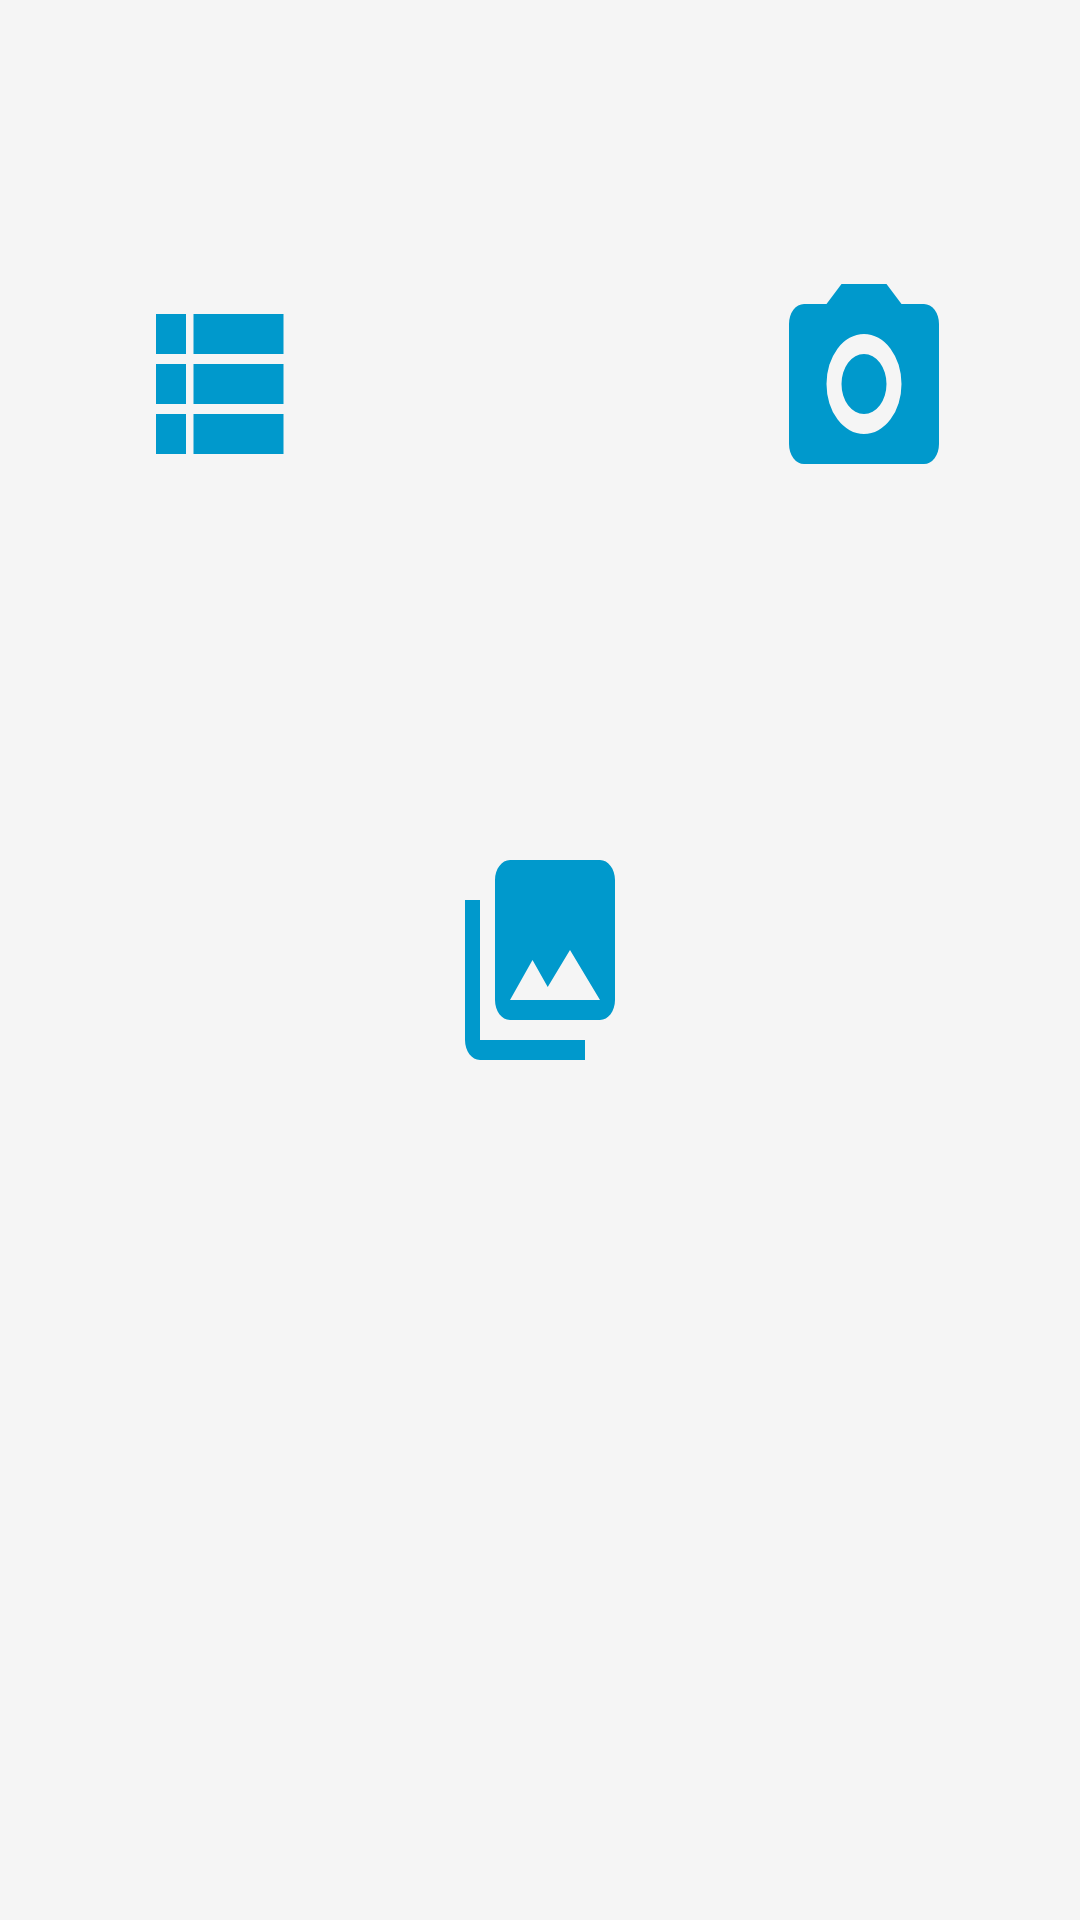

Locate icon controls on the screen. Image size 1080*1920, boxes as [x1, y1, x2, y2].
camera: [789, 284, 939, 464]
photo library: [465, 860, 615, 1060]
view list: [156, 314, 284, 454]
